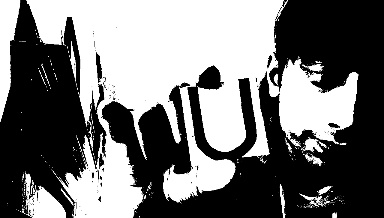U: (178, 78, 259, 159)
